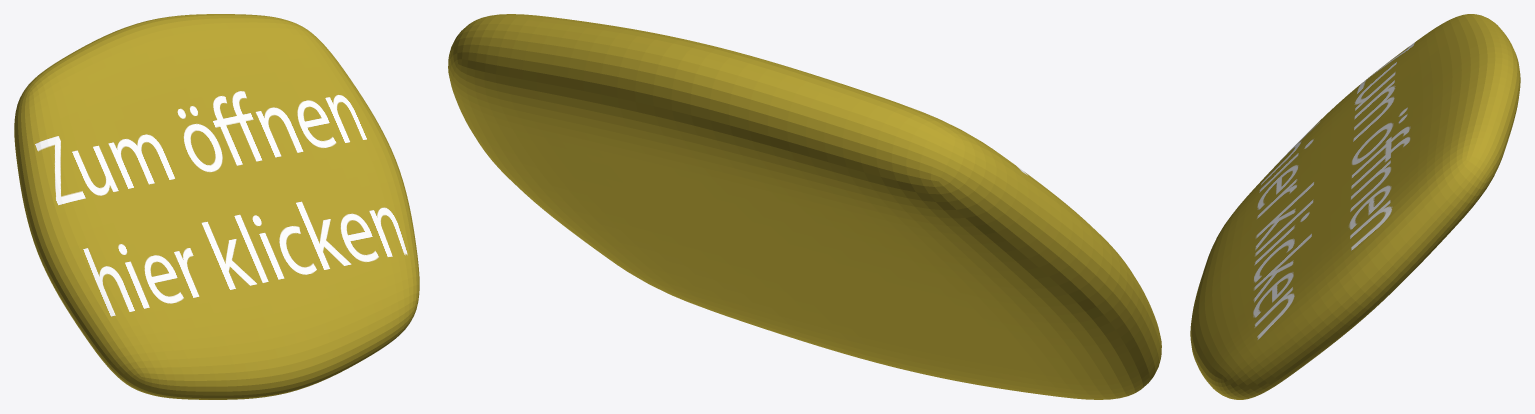
Rendered from button_to_open_and_close_lid.gltf.
3 views of the same model, side by side, from view 1: azimuth 30°, elevation 25°; view 2: azimuth 150°, elevation 25°; view 3: azimuth 270°, elevation 25° (orthographic). The views are drawn at different scales.
Visible parts, largest first — view 1: Cube; view 2: Cube; view 3: Cube.
Boxes of the visible parts, <box> form: Cube: <box>14,14,419,399</box>; Cube: <box>448,14,1161,399</box>; Cube: <box>1190,14,1520,399</box>.
Bounding box in the file's own units: 0.1347 × 0.0996 × 0.0996.
1 material, 1 textured.
